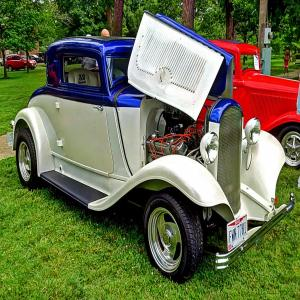Vehicle-registration-plate: (227, 212, 249, 252)
